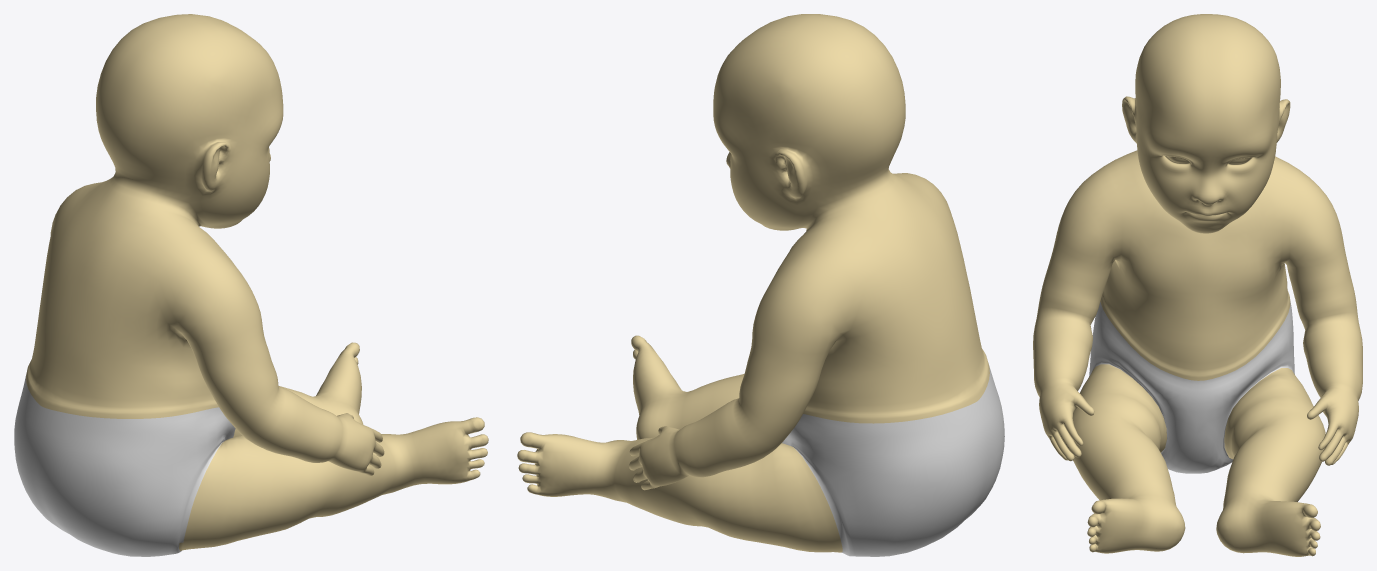
File: baby1.glb
3 renders of one model, left to right at view 1: azimuth 30°, elevation 25°; view 2: azimuth 150°, elevation 25°; view 3: azimuth 270°, elevation 25°, orthographic. The views are drawn at different scales.
Parts seen in each view (by area): view 1: baby; view 2: baby; view 3: baby.
Part boxes in pixels (x1,y1,x2,y2): baby: (14, 14, 488, 556); baby: (517, 14, 1004, 556); baby: (1033, 14, 1362, 556).
Bounding box in the file's own units: 4.13 × 4.9 × 3.2.
